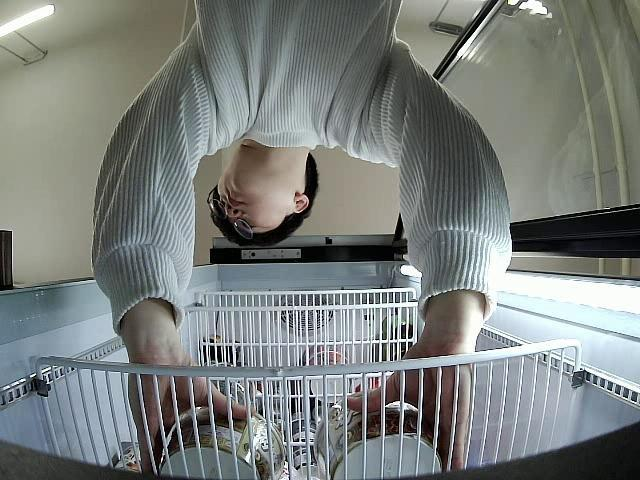03_chapagetti_L: (316, 393, 444, 480), (155, 406, 286, 480)
